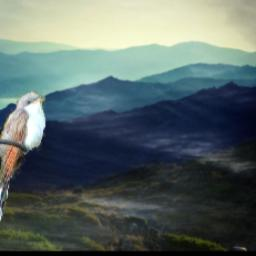Cuckoo: (0, 92, 45, 234)
